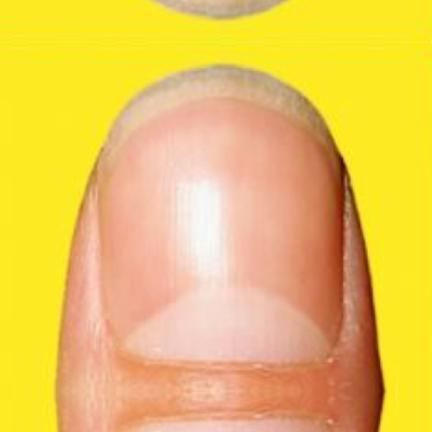Nail: (100, 98, 342, 363), (122, 419, 328, 432)
